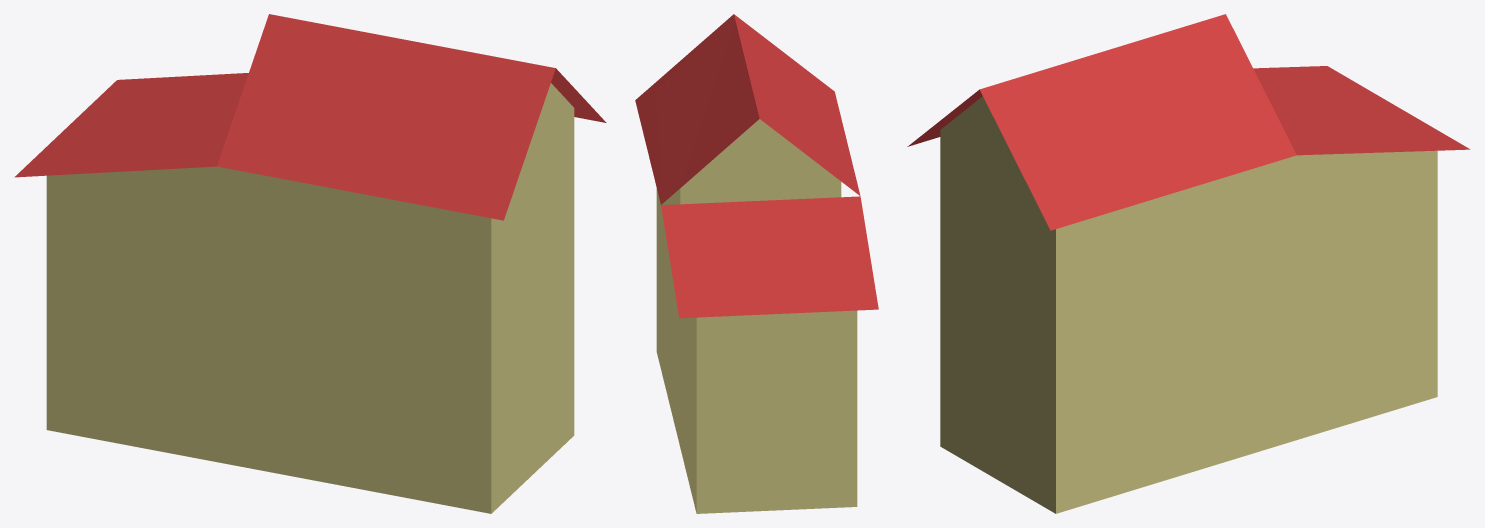
3 views of the same model, side by side, from view 1: azimuth 30°, elevation 25°; view 2: azimuth 150°, elevation 25°; view 3: azimuth 270°, elevation 25° (orthographic). The views are drawn at different scales.
Size of the model in its own units: 10.59 by 11.87 by 9.23.
